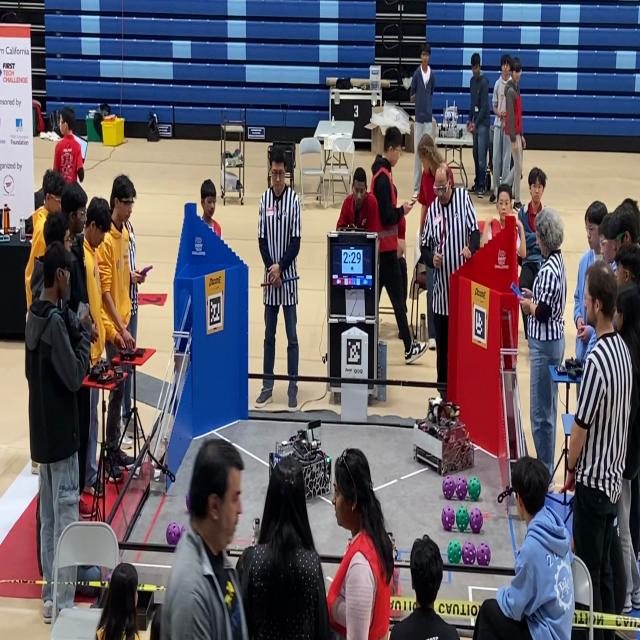artifact_green: (456, 506, 469, 532), (448, 540, 461, 564), (468, 477, 480, 501), (185, 494, 189, 511)
artifact_purple: (462, 541, 476, 565), (442, 475, 455, 500), (442, 506, 455, 531), (470, 508, 483, 533), (166, 523, 180, 545), (477, 543, 490, 565), (455, 477, 467, 500), (185, 493, 190, 512), (181, 526, 186, 537)
